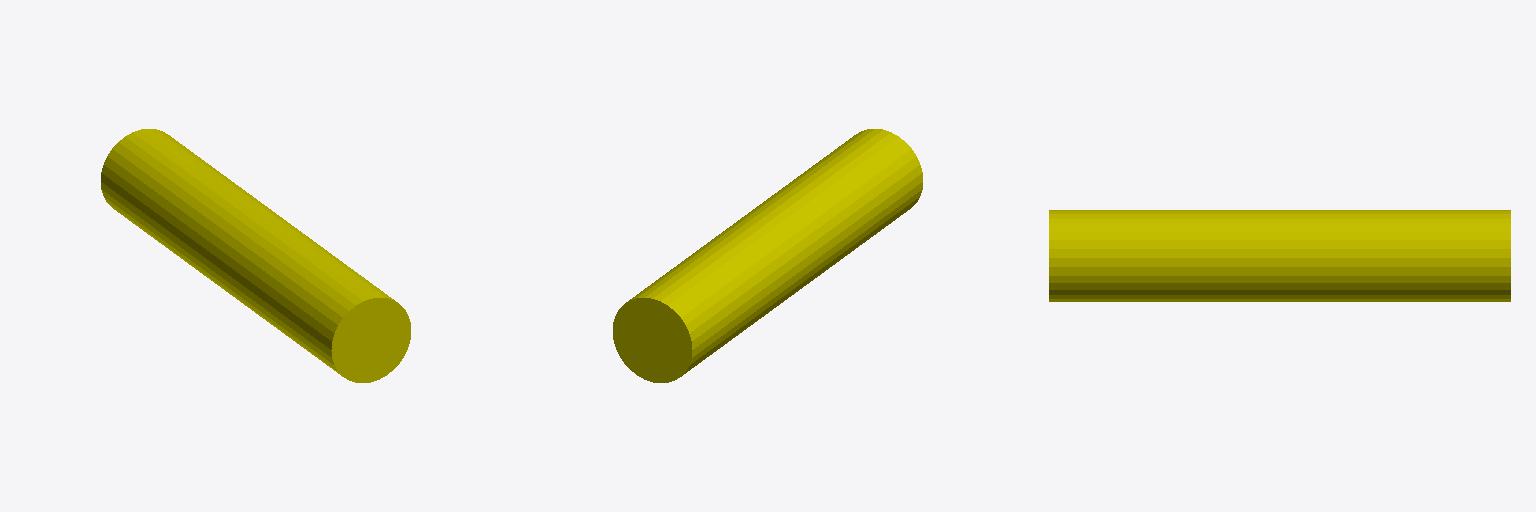
File: pipe_1.obj
The picture shows the model from 3 angles: view 1: azimuth 30°, elevation 25°; view 2: azimuth 150°, elevation 25°; view 3: azimuth 270°, elevation 25°; orthographic projection.
Size of the model in its own units: 4 by 4 by 20.